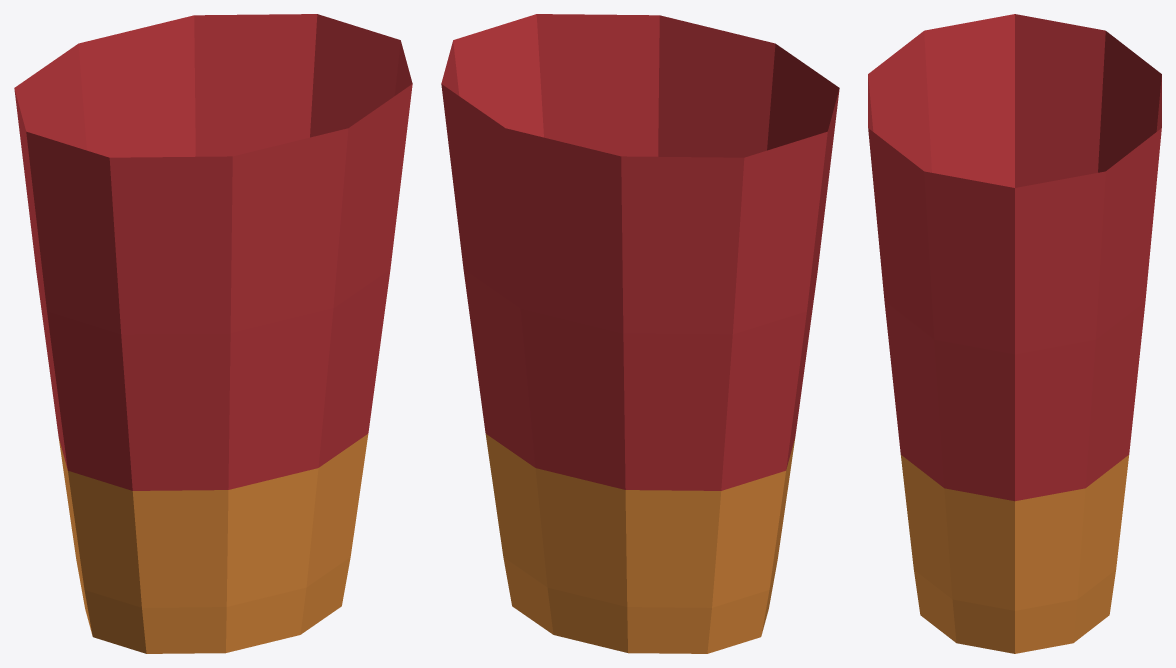
File: Circle6Piece_MaidenHeat.obj
The picture shows the model from 3 angles, left to right: view 1: azimuth 30°, elevation 25°; view 2: azimuth 150°, elevation 25°; view 3: azimuth 270°, elevation 25°; orthographic projection. The views are drawn at different scales.
Visible parts, largest first — view 1: Circle6Piece_MaidenHeat; view 2: Circle6Piece_MaidenHeat; view 3: Circle6Piece_MaidenHeat.
Part boxes in pixels (x1,y1,x2,y2): Circle6Piece_MaidenHeat: (14,14,412,653); Circle6Piece_MaidenHeat: (441,14,839,653); Circle6Piece_MaidenHeat: (868,14,1161,653).
Bounding box in the file's own units: 1.14 × 1.52 × 0.8166.
Materials: 1 (1 with a texture image).
